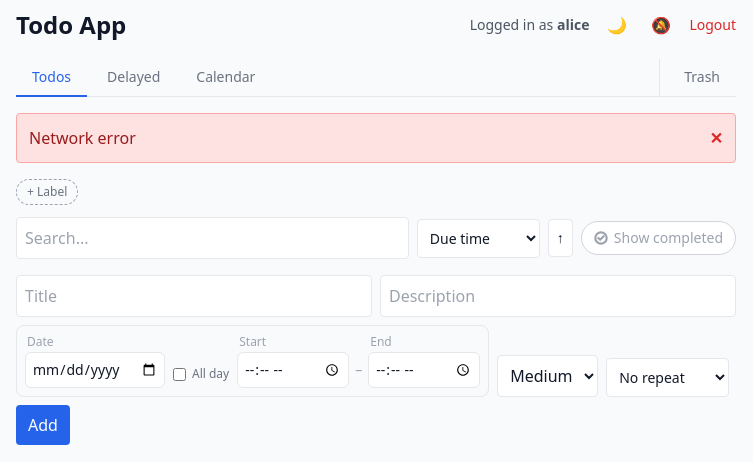
Test: App (authenticated) › dismisses error when X button is clicked
The width and height of the screenshot is (753, 462).
Check: the text "Network error" is shown, box [29,126,136,150]
Click the button "✕".
click(716, 138)  # box [710,126,723,150]
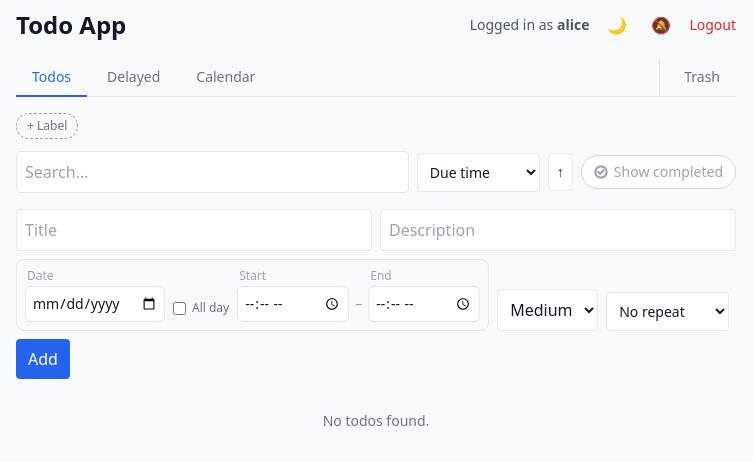
Check: the text "Network error" is gone
